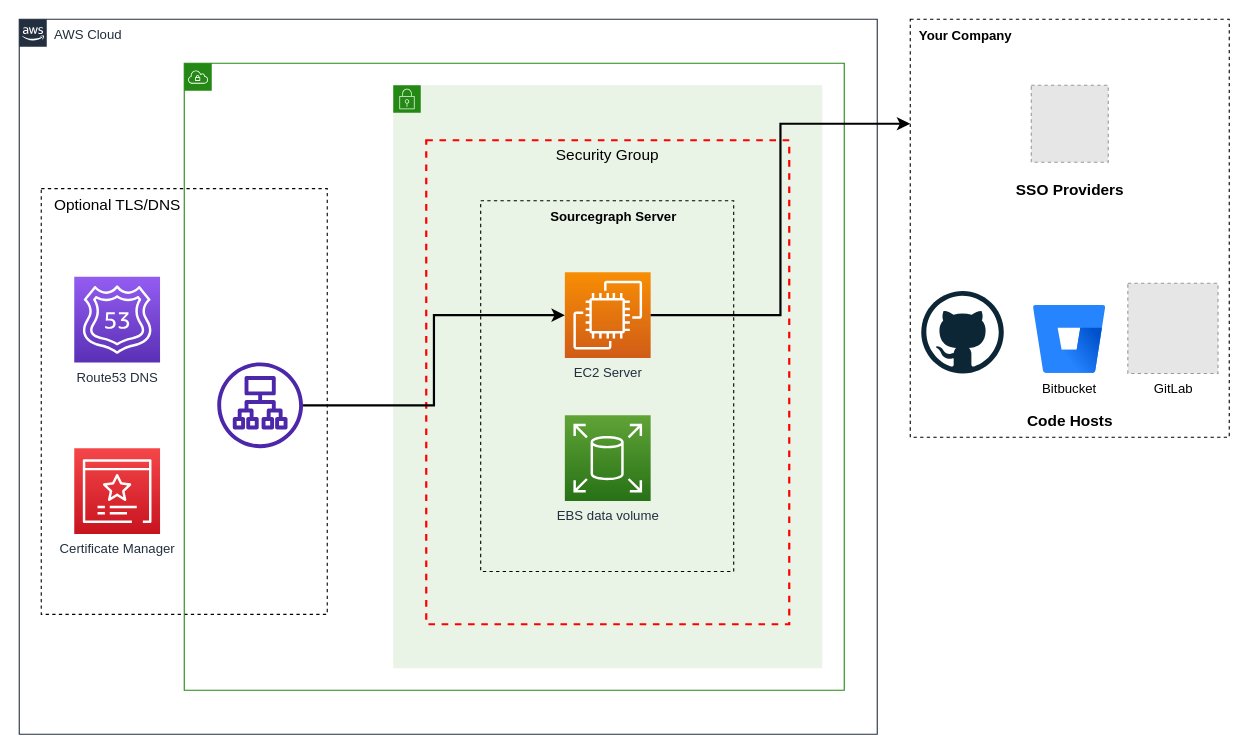
The diagram is 1249 pixels wide and 754 high, and some of its shapes have lost their labels. Grey dashed boxes stand in for pictures. The box of each missing label's shape, as (x1, y1, x2, y2) in pixels:
Application Load Balancer: (217, 362, 302, 448)
Default VPC: (183, 62, 844, 690)
GitHub: (920, 290, 1004, 373)
Public subnet: (392, 84, 822, 668)
